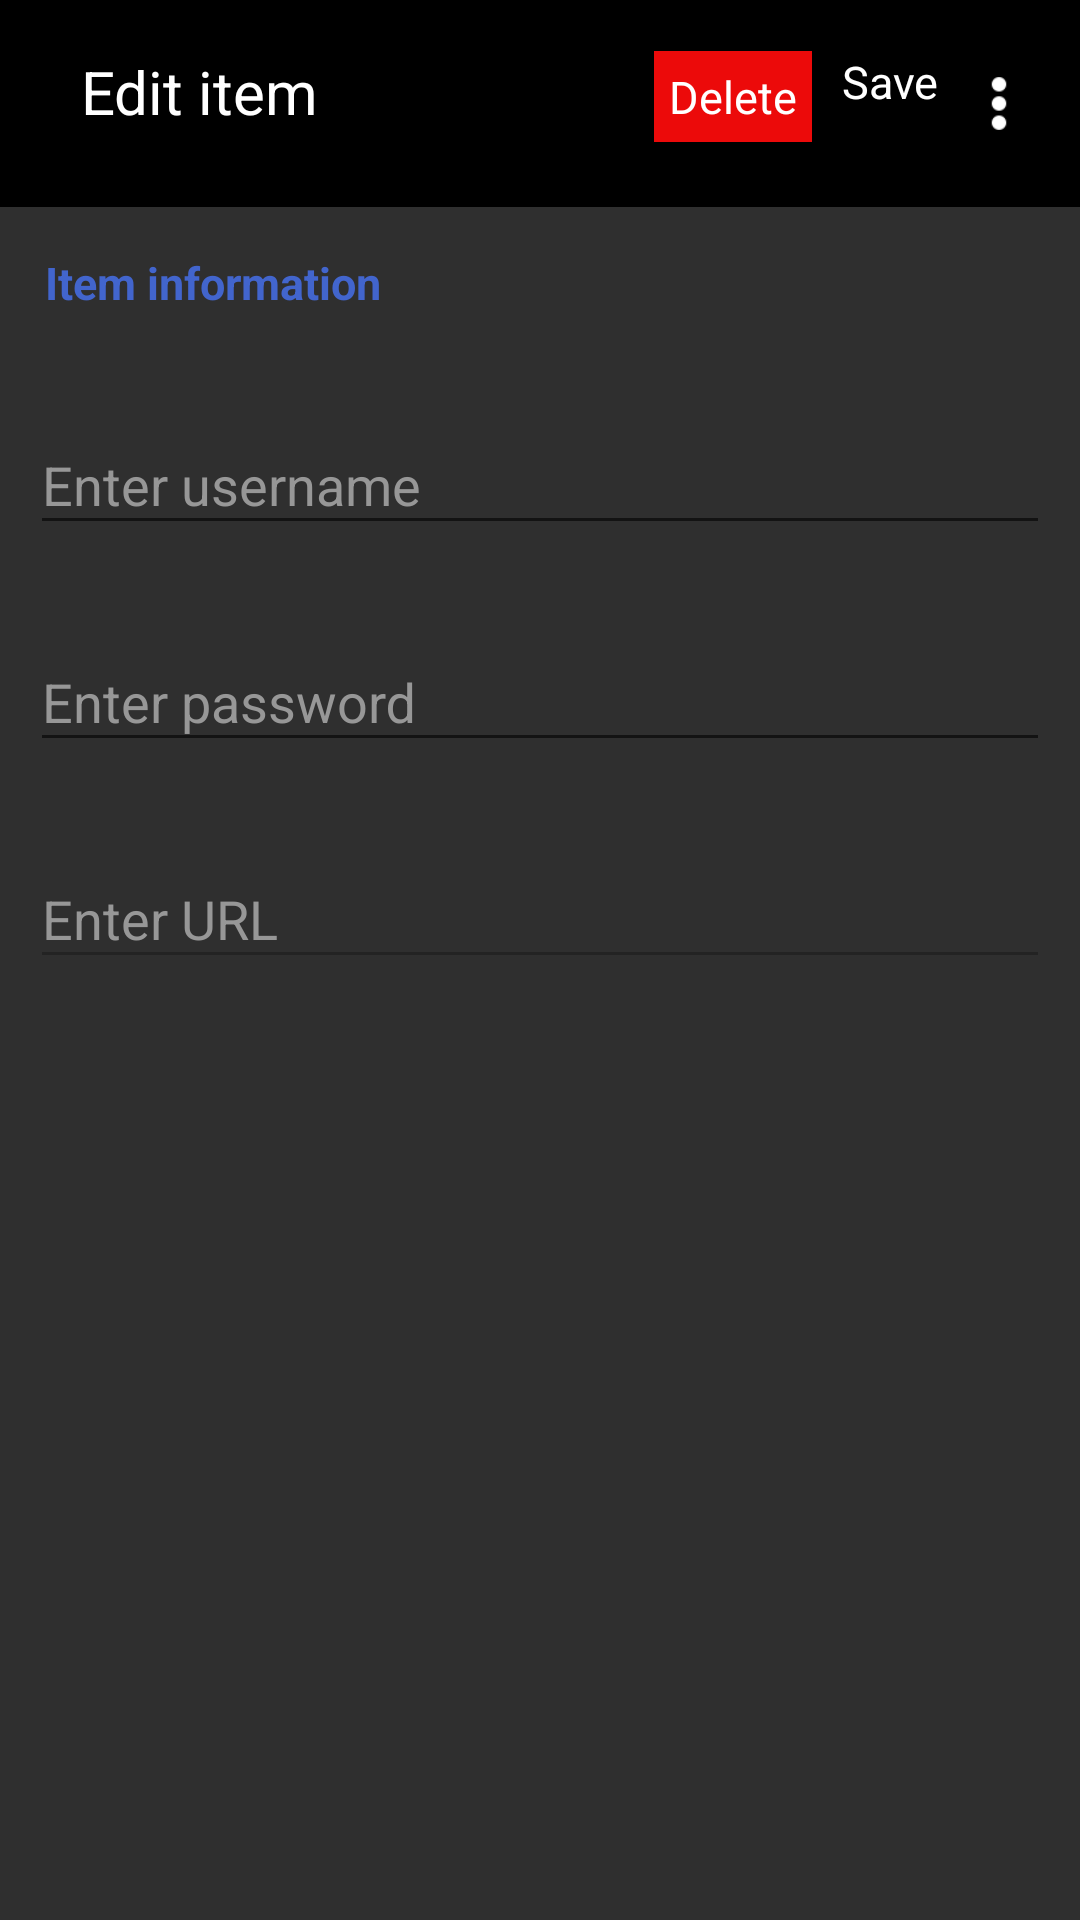

Where to tap for icons on this 1080 x 1920 app screen, as [x,y]:
more: [999,103]
